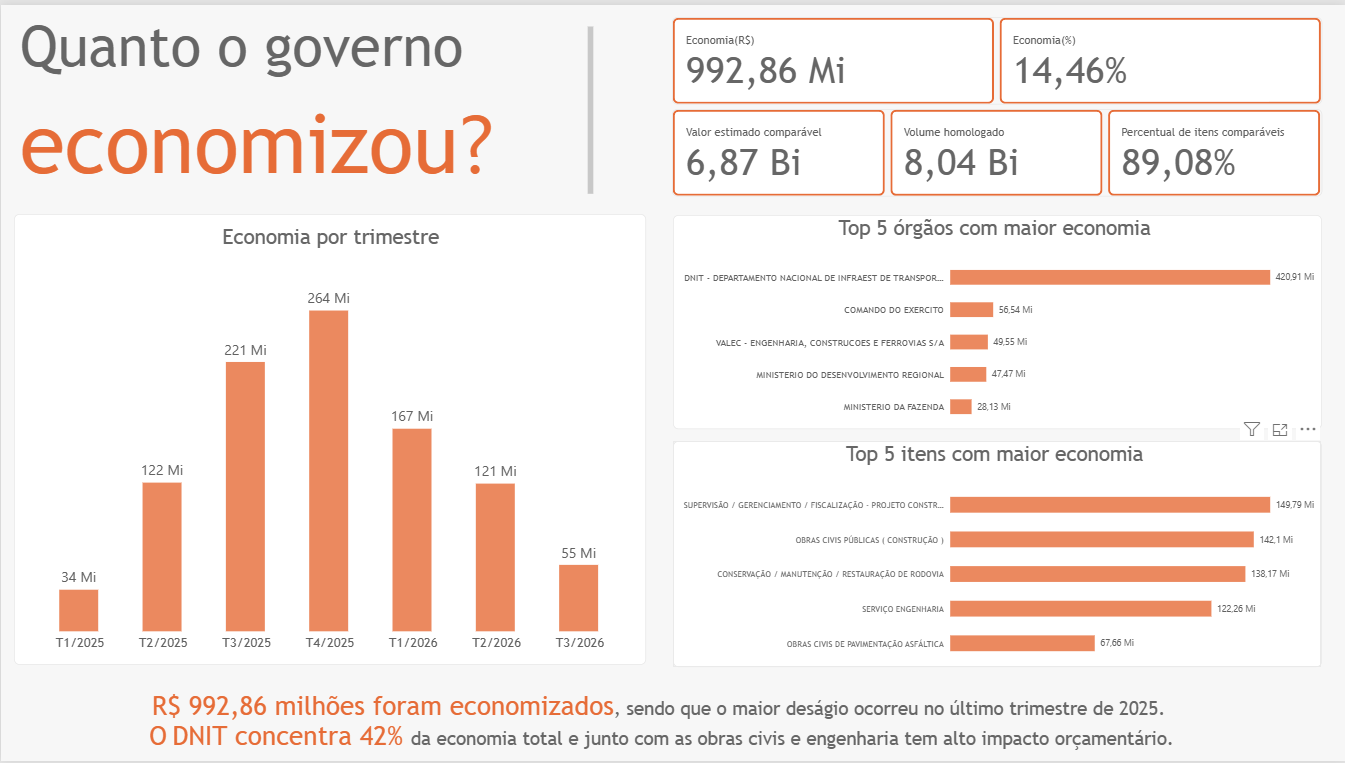

The page's visual inventory and layout, read from the dashboard file:
{"tool":"powerbi","page":{"name":"Economia","canvas":[1920,1080],"ordinal":0},"visuals":[{"type":"textbox","box":[27.1,5.7,818.6,264.3],"z":0},{"type":"cardVisual","fields":{"Data":["_Medidas.valor_estimado_comparavel","_Medidas.volume_homologado","_Medidas.%_itens_comparaveis"]},"box":[958.7,149.2,929,125],"z":1000},{"type":"cardVisual","title":" Economia","fields":{"Data":["_Medidas.economia(R$)","_Medidas.economia(%)"]},"box":[958.7,16.5,929.4,125],"z":2000},{"type":"clusteredColumnChart","title":"Economia por trimestre","fields":{"Category":["Calendario.Trimestre"],"Y":["_Medidas.economia(R$)"]},"box":[19,299.1,902.9,644.2],"z":3000},{"type":"clusteredBarChart","title":"Top 5 órgãos com maior economia","fields":{"Category":["pncp_controladoria dim_orgao.nome_orgao"],"Y":["_Medidas.economia(R$)"]},"box":[959.3,299.6,927,305.9],"z":4000},{"type":"clusteredBarChart","title":"Top 5 itens com maior economia","fields":{"Category":["pncp_controladoria fato_item_contratado.descricao_item"],"Y":["_Medidas.economia(R$)"]},"box":[959.3,622.8,927,323.2],"z":5000},{"type":"textbox","box":[0,978.3,1886.7,101.7],"z":7000}]}

Visuals, with their boxes in screenshot pixels (x1, y1, x2, y2), scaled from the page's 1920x1080 canvas onto the 1345x763 screenshot:
textbox: rect(19, 4, 592, 191)
cardVisual - _Medidas.valor_estimado_comparavel x _Medidas.volume_homologado: rect(672, 105, 1322, 194)
" Economia" cardVisual: rect(672, 12, 1323, 100)
"Economia por trimestre" clusteredColumnChart: rect(13, 211, 646, 666)
"Top 5 órgãos com maior economia" clusteredBarChart: rect(672, 212, 1321, 428)
"Top 5 itens com maior economia" clusteredBarChart: rect(672, 440, 1321, 668)
textbox: rect(0, 691, 1322, 762)
